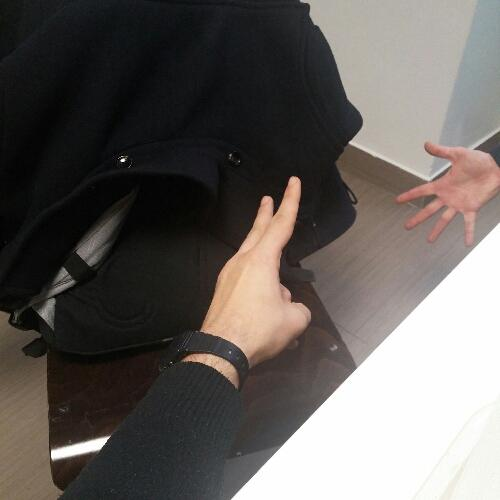paper: (390, 136, 500, 256)
scissors: (184, 171, 314, 391)
